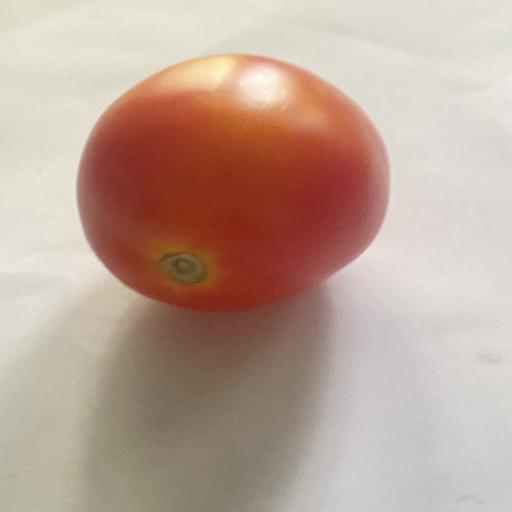ripe: (77, 54, 389, 311)
